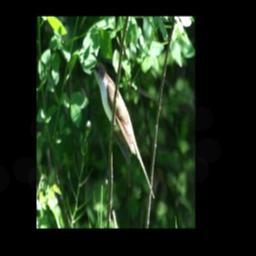Cuckoo: (90, 60, 155, 200)
